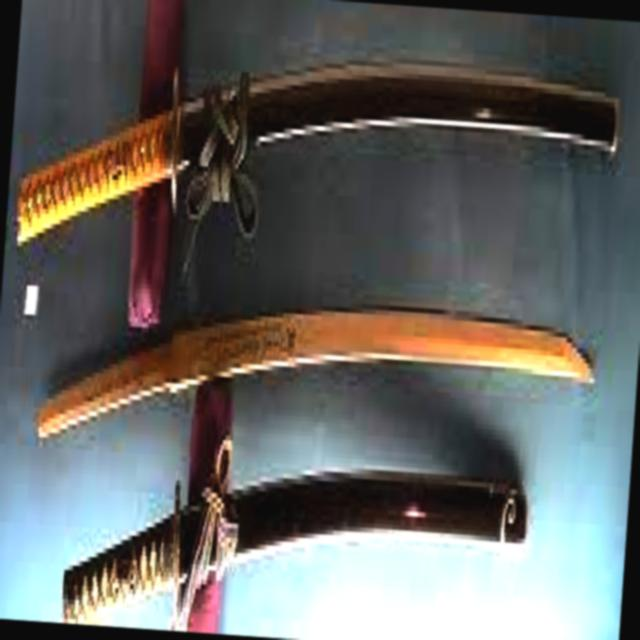long sword: (11, 34, 636, 286), (32, 276, 603, 497), (45, 437, 536, 640)
